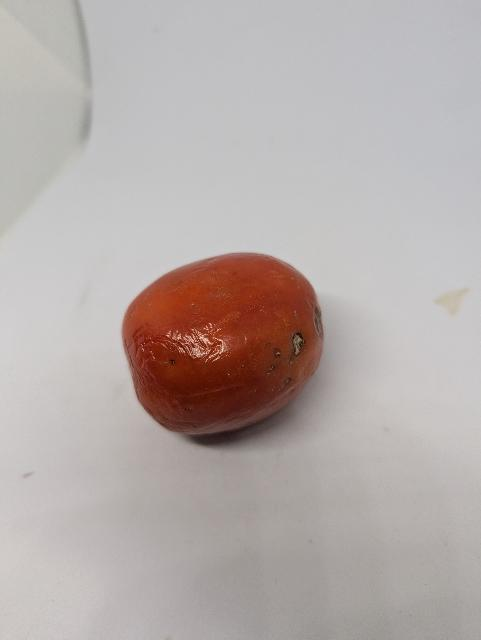defect: (119, 248, 328, 437)
